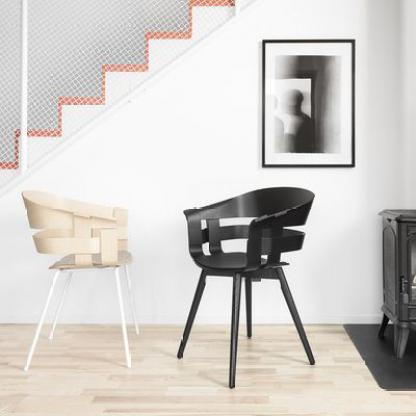chair: (162, 182, 332, 394), (22, 178, 151, 380)
table: (374, 202, 416, 363)
